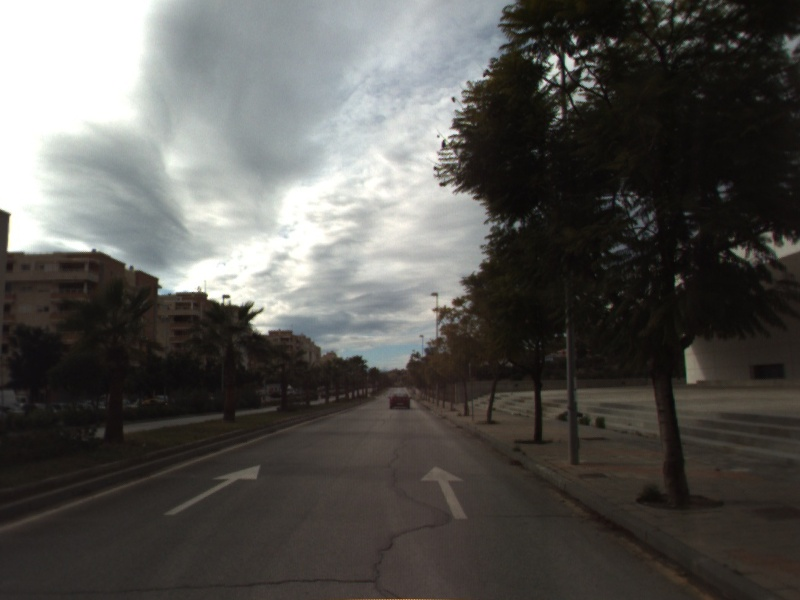STRAIGHT: (162, 463, 263, 517), (418, 463, 470, 521)
